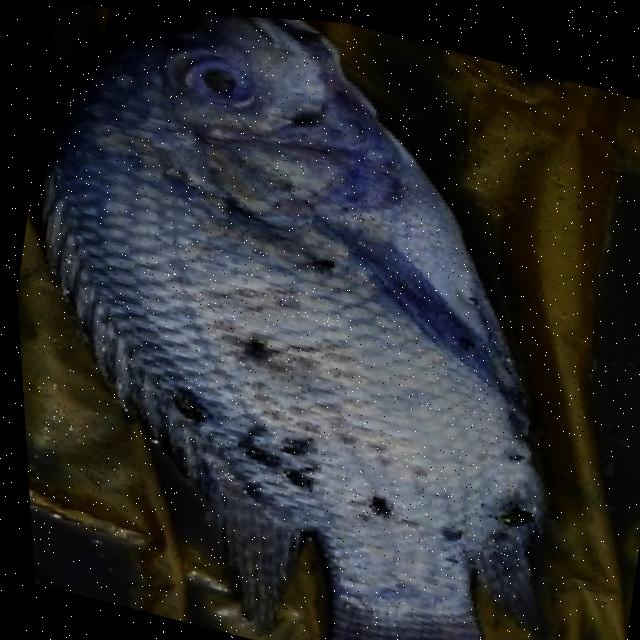Non-Fresh: (74, 113, 507, 570), (159, 25, 276, 142)
